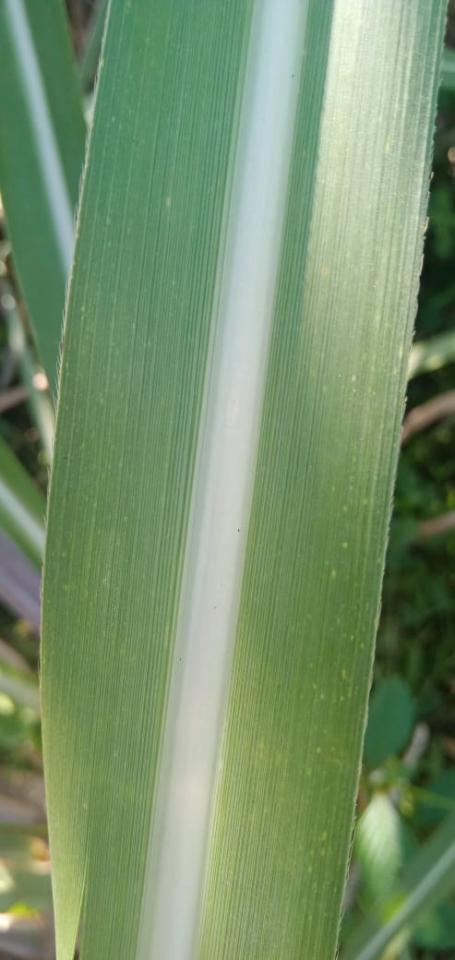Healthy: (42, 0, 445, 959)
